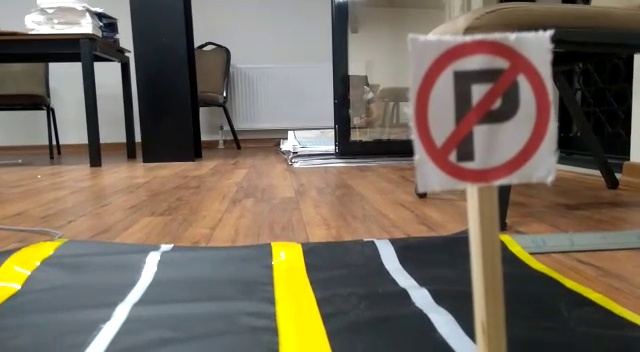park_yapilmaz: (409, 40, 553, 183)
